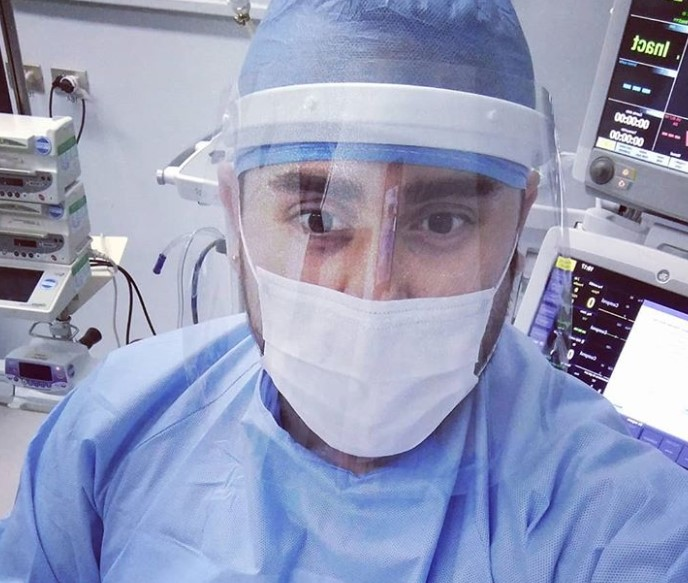face_with_mask: (234, 20, 559, 461)
